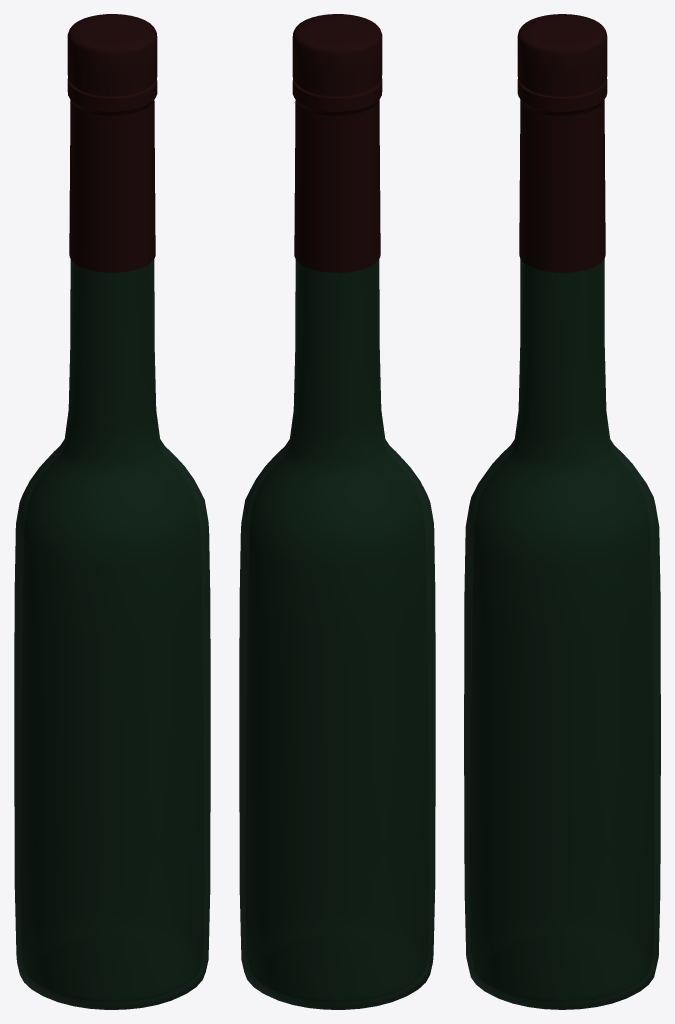
File: wine_bottle.obj
The picture shows the model from 3 angles, left to right: view 1: azimuth 30°, elevation 25°; view 2: azimuth 150°, elevation 25°; view 3: azimuth 270°, elevation 25°; orthographic projection.
Visible parts, largest first — view 1: Bottle1_Circle.002, Bottle3_Circle.011; view 2: Bottle1_Circle.002, Bottle3_Circle.011; view 3: Bottle1_Circle.002, Bottle3_Circle.011.
Boxes of the visible parts, x1,y1,x2,y2 form: Bottle1_Circle.002: [14, 259, 210, 1009]; Bottle3_Circle.011: [67, 14, 157, 272]; Bottle1_Circle.002: [239, 259, 435, 1009]; Bottle3_Circle.011: [292, 14, 382, 272]; Bottle1_Circle.002: [464, 259, 660, 1009]; Bottle3_Circle.011: [517, 14, 607, 272].
Size of the model in its own units: 0.0498 by 0.2634 by 0.0498.
